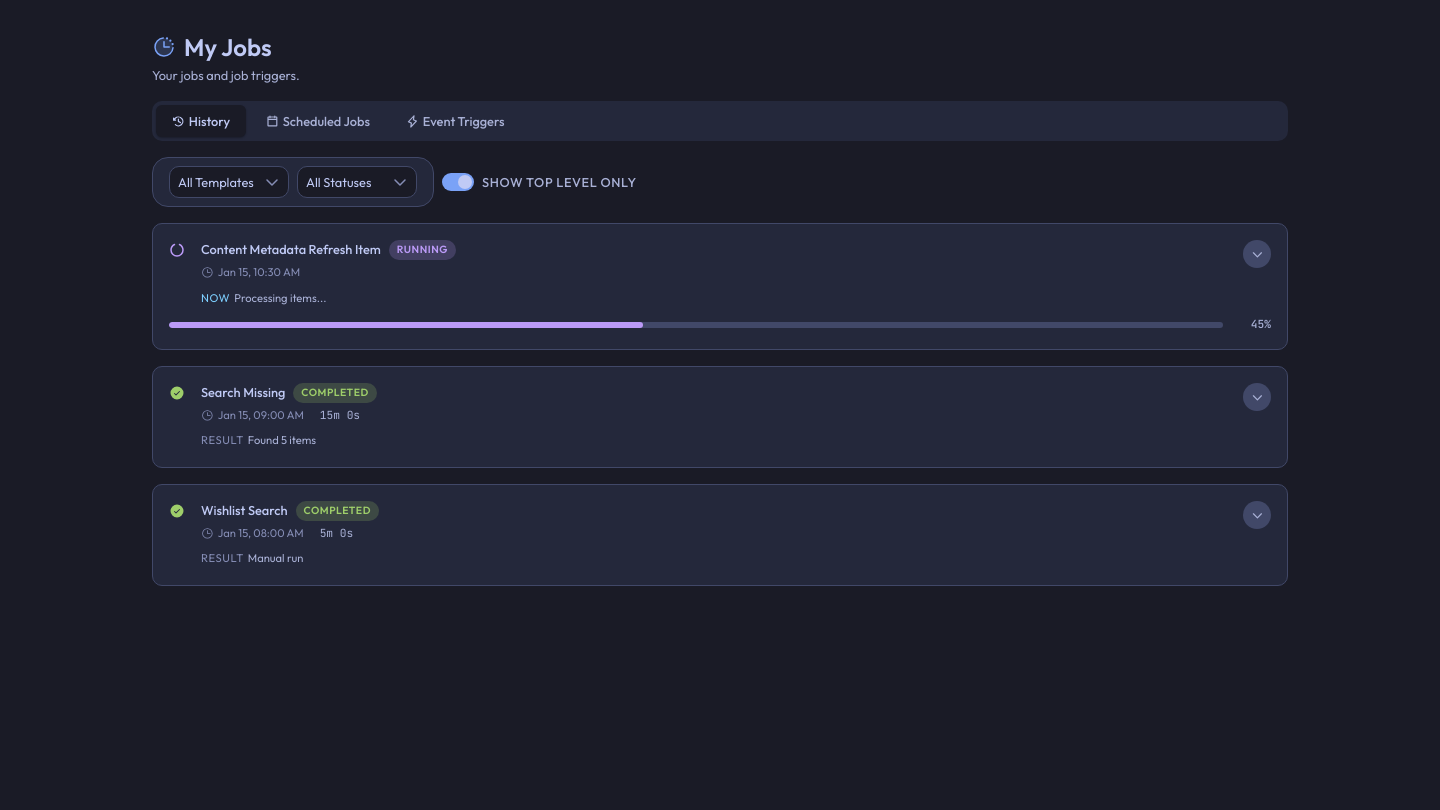
Test case: MyJobsPage Executions tab › requests and renders child executions when the roots-only toggle is off
Click the switch named "show top level only". click: (458, 182)
box: top-left (442, 173), bottom-right (474, 191)
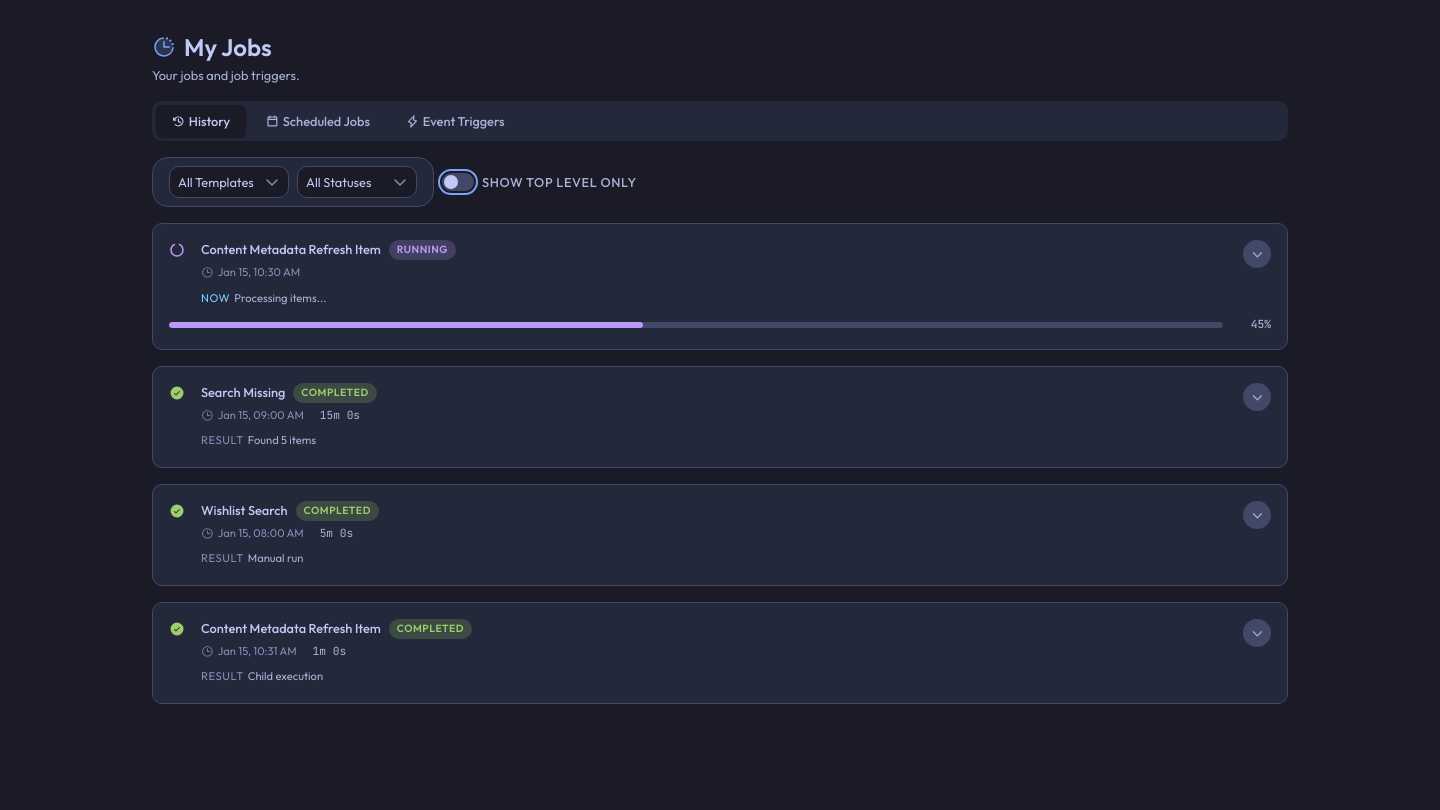
Result: the text "Child execution" is shown at top-left (248, 667), bottom-right (323, 687)
